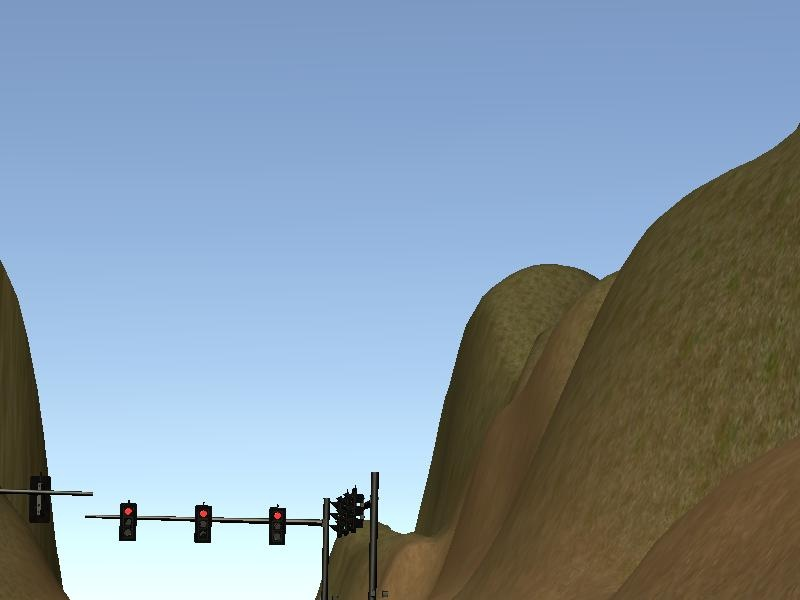traffic_light_red: (102, 499, 322, 547)
